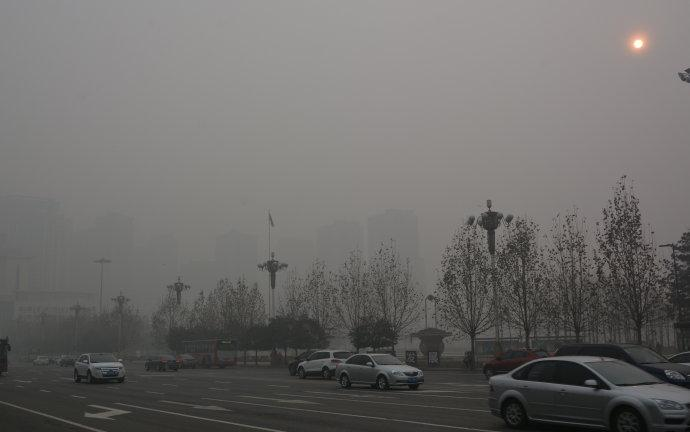bus: (180, 338, 238, 370)
car: (489, 357, 690, 432), (545, 343, 690, 406), (335, 353, 424, 392), (481, 348, 553, 381), (296, 349, 354, 382), (74, 353, 127, 385), (653, 350, 690, 389), (289, 349, 328, 377), (144, 354, 180, 373), (170, 354, 197, 370), (56, 354, 75, 367), (33, 356, 48, 366), (51, 355, 59, 365)
